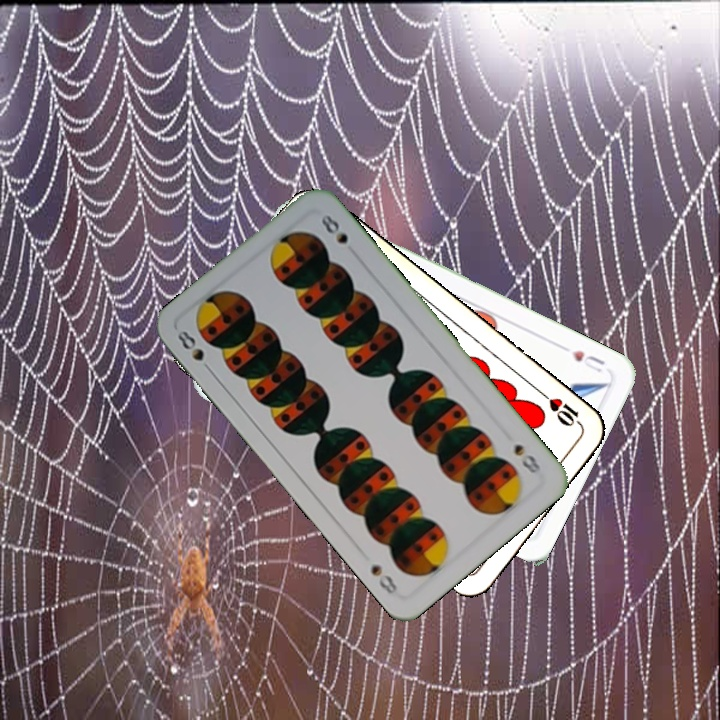H10: (536, 387, 586, 431)
HU: (568, 346, 608, 376)
S8: (170, 326, 216, 377), (509, 439, 544, 476)
